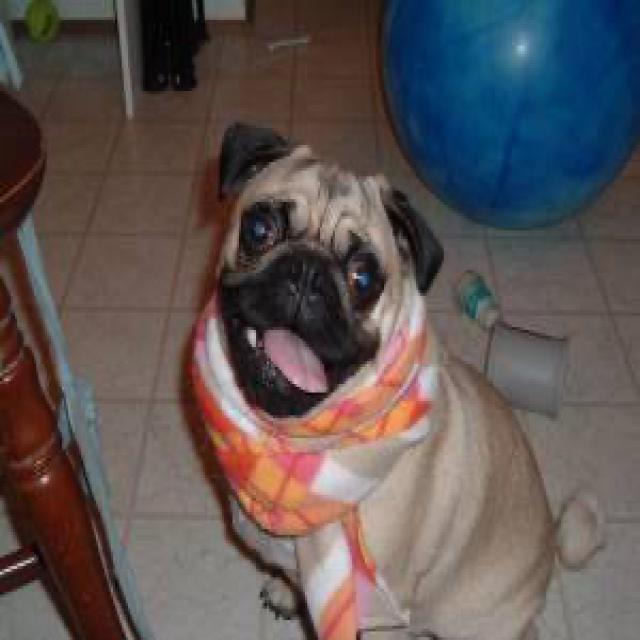dog: (216, 116, 442, 412)
